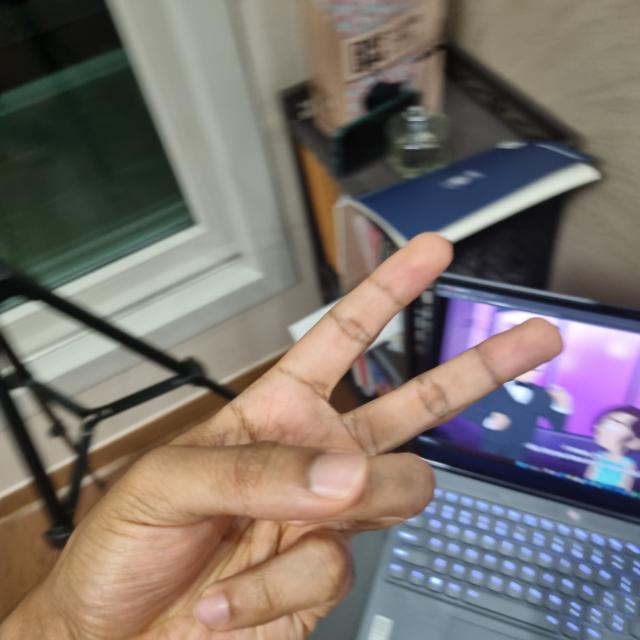Scissors: (25, 234, 563, 639)
